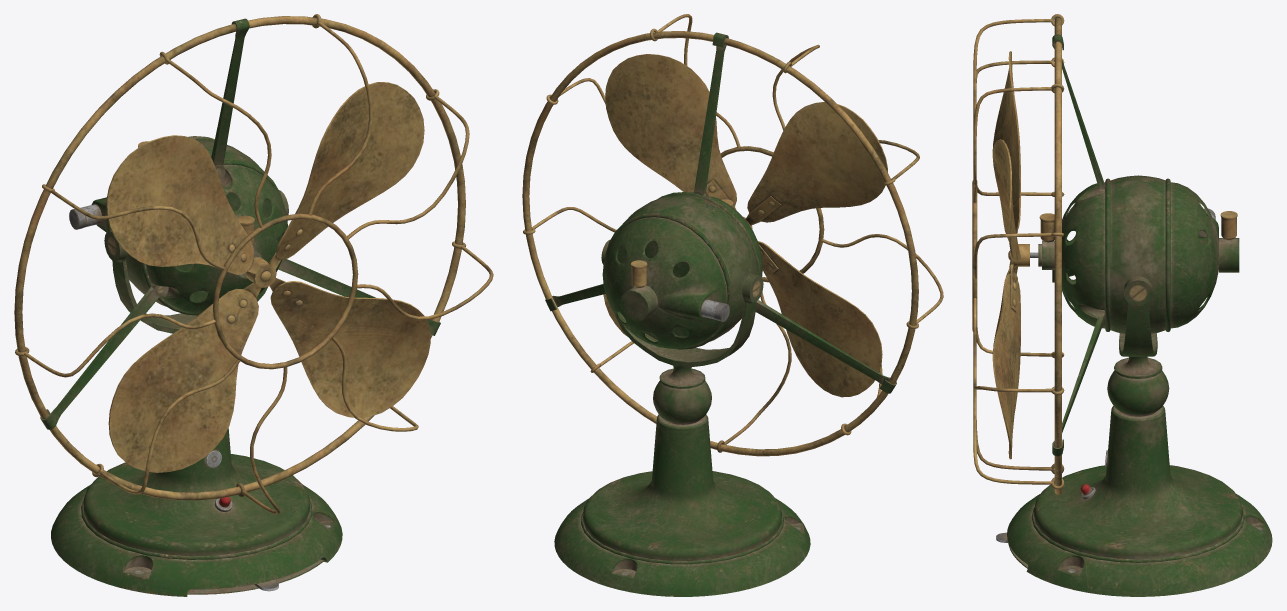
3 views of the same model, side by side, from view 1: azimuth 30°, elevation 25°; view 2: azimuth 150°, elevation 25°; view 3: azimuth 270°, elevation 25° (orthographic). The views are drawn at different scales.
Visible parts, largest first — view 1: FanWing_lo, Neck_lo, Base_lo, FrameIn_lo, FrameOut_lo, HeadFront_lo, FrameCon_lo, BodySup_lo, HeadMid_lo, WingCon_lo, BaseSup_lo; view 2: FanWing_lo, Neck_lo, HeadBack_lo, Base_lo, FrameOut_lo, HeadMid_lo, FrameIn_lo, FrameCon_lo, BodySup_lo, NeckCon_lo, HeadT2_lo, CapBack_lo (+1 smaller); view 3: Neck_lo, Base_lo, HeadMid_lo, FanWing_lo, HeadBack_lo, FrameIn_lo, HeadFront_lo, FrameOut_lo, BodySup_lo, NeckCon_lo, FrameCon_lo, HeadT2_lo (+4 smaller).
Part boxes in pixels (x1,y1,x2,y2): FanWing_lo: (106, 82, 430, 472); Neck_lo: (81, 428, 312, 559); Base_lo: (51, 485, 342, 596); FrameIn_lo: (15, 14, 493, 514); FrameOut_lo: (14, 16, 465, 500); HeadFront_lo: (146, 164, 287, 314); FrameCon_lo: (40, 18, 440, 429); BodySup_lo: (104, 190, 288, 333); HeadMid_lo: (126, 139, 271, 306); WingCon_lo: (243, 253, 285, 298); BaseSup_lo: (187, 559, 323, 594); FanWing_lo: (603, 54, 887, 397); Neck_lo: (581, 414, 783, 564); HeadBack_lo: (602, 217, 727, 348); Base_lo: (554, 498, 810, 596); FrameOut_lo: (522, 31, 918, 456); HeadMid_lo: (617, 194, 757, 341); FrameIn_lo: (523, 14, 943, 452); FrameCon_lo: (545, 32, 896, 393); BodySup_lo: (601, 239, 763, 388); NeckCon_lo: (653, 381, 711, 424); HeadT2_lo: (605, 213, 731, 349); CapBack_lo: (620, 285, 658, 321); Neck_lo: (1031, 406, 1244, 562); Base_lo: (1007, 494, 1272, 596); HeadMid_lo: (1110, 175, 1165, 333); FanWing_lo: (992, 51, 1020, 459); HeadBack_lo: (1170, 182, 1218, 328); FrameIn_lo: (972, 14, 1064, 489); HeadFront_lo: (1062, 182, 1105, 328); FrameOut_lo: (1054, 17, 1061, 494); BodySup_lo: (1114, 276, 1162, 378); NeckCon_lo: (1107, 370, 1169, 416); FrameCon_lo: (1052, 34, 1104, 456); HeadT2_lo: (1165, 178, 1170, 331).
Size of the model in its own units: 1.72 by 2 by 1.08.
1 material, 1 textured.
